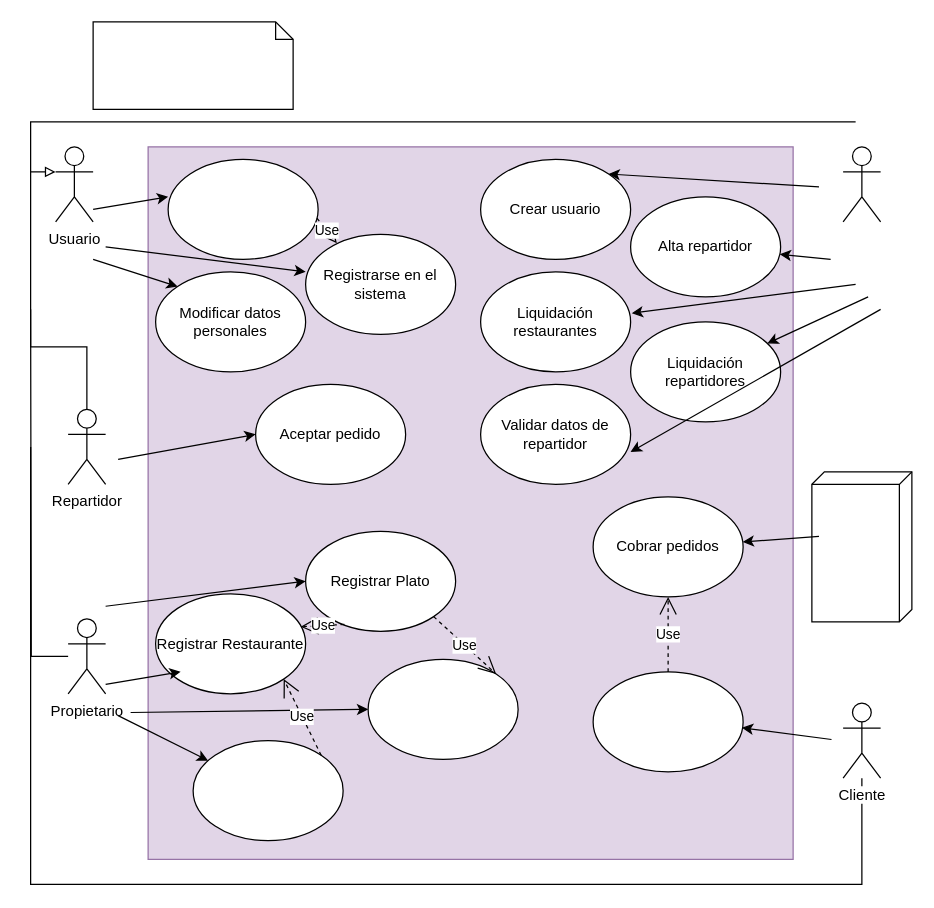
Some shapes in this 934 by 908 pixel diagram are drawn without their labels. The shapes that lost their labels are listed below. From the top down, each one's centre as x and y in pixels, then its label:
At pixel 192 65: "Nota: Todos los casos de uso requerirán del Log-In".
At pixel 861 184: "Administrador".
At pixel 242 208: "Log in / Log out".
At pixel 861 546: "Pasarela de pago".
At pixel 442 708: "Registrar menú".
At pixel 667 721: "Realizar pedido".
At pixel 267 790: "Modificar datos de restaurante".
